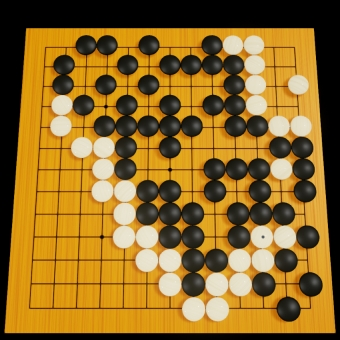black: (180, 272, 207, 298), (159, 202, 182, 226), (203, 180, 227, 203), (137, 73, 160, 96), (159, 115, 180, 137)
crossing: (93, 299, 109, 315), (95, 230, 109, 246), (163, 163, 179, 177), (30, 186, 45, 200), (256, 303, 271, 317), (208, 140, 222, 155), (100, 100, 113, 114), (141, 301, 154, 315), (300, 206, 312, 221), (27, 255, 40, 267), (292, 101, 304, 113), (35, 123, 47, 134), (186, 81, 198, 92), (291, 60, 301, 73), (165, 43, 176, 53), (186, 43, 197, 53)
ne: (287, 41, 302, 56)
nw: (40, 42, 55, 55)
se: (304, 300, 319, 316)
sw: (24, 299, 41, 315)
white: (90, 179, 114, 203), (48, 115, 73, 138), (251, 225, 274, 249), (287, 74, 311, 96), (93, 136, 115, 159), (269, 115, 291, 137)
